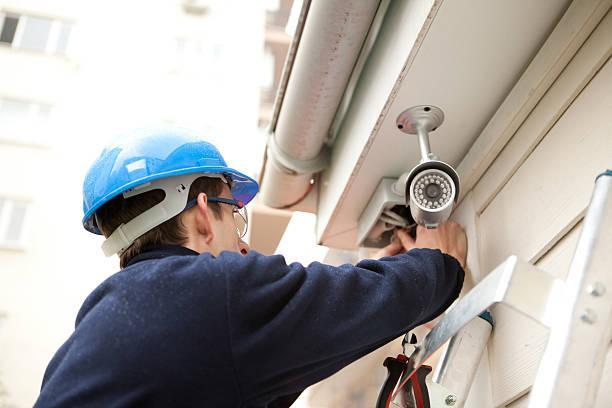camera: (378, 97, 470, 233)
